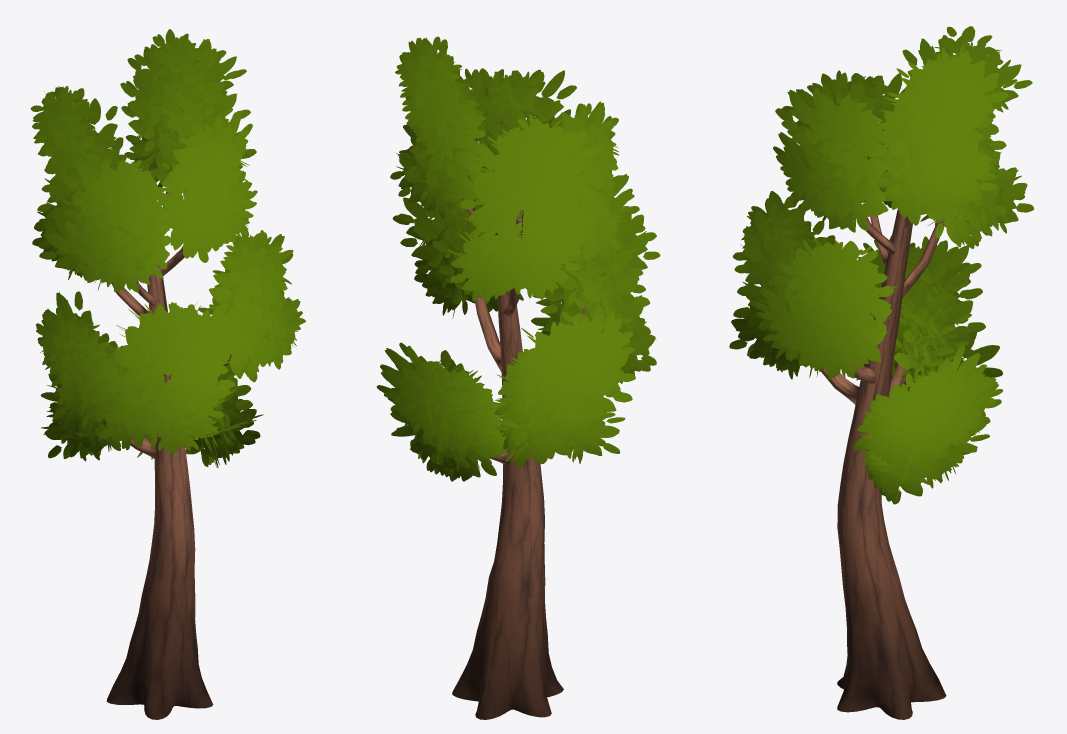
Rendered from CommonTree_3.gltf.
3 renders of one model, left to right at view 1: azimuth 30°, elevation 25°; view 2: azimuth 150°, elevation 25°; view 3: azimuth 270°, elevation 25°, orthographic. The views are drawn at different scales.
Parts seen in each view (by area): view 1: CommonTree_3; view 2: CommonTree_3; view 3: CommonTree_3.
Part boxes in pixels (x1,y1,x2,y2): CommonTree_3: [30, 29, 305, 719]; CommonTree_3: [376, 36, 660, 719]; CommonTree_3: [729, 26, 1033, 719].
Size of the model in its own units: 4.06 by 9.43 by 4.24.
Materials: 2 (2 with a texture image).
